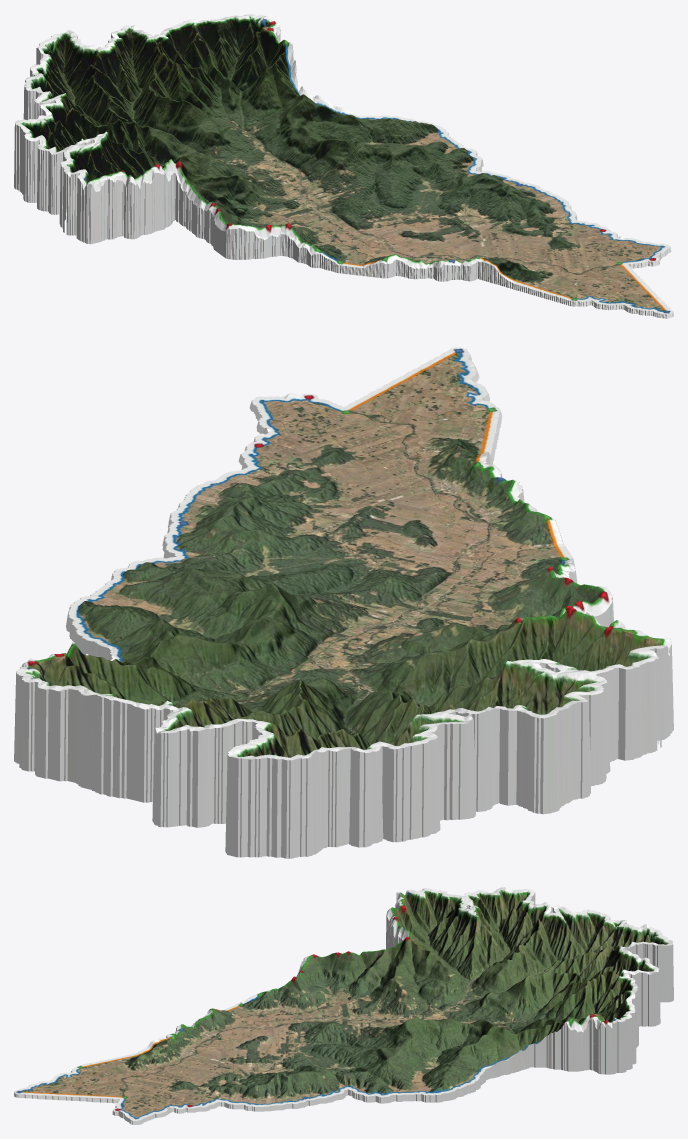
The picture shows the model from 3 angles, top to bottom: view 1: azimuth 30°, elevation 25°; view 2: azimuth 150°, elevation 25°; view 3: azimuth 270°, elevation 25°; orthographic projection. The views are drawn at different scales.
Bounding box in the file's own units: 1 × 0.1483 × 1.51.
1 material, 1 textured.
